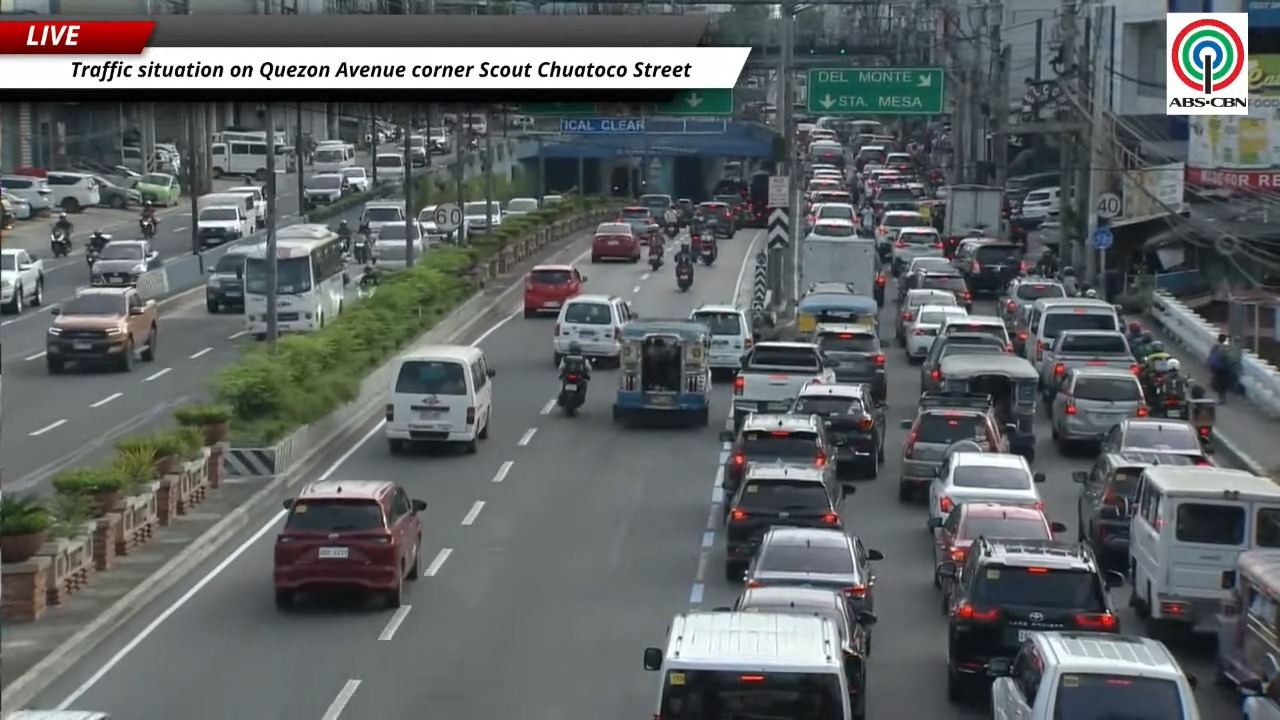bus: (276, 225, 346, 332), (210, 141, 266, 181), (210, 129, 266, 143)
car: (938, 538, 1123, 701), (273, 480, 426, 609), (986, 630, 1201, 719), (731, 586, 877, 717), (725, 463, 853, 582), (930, 502, 1066, 611), (1072, 451, 1193, 568), (745, 524, 882, 614), (900, 393, 1005, 501), (722, 413, 836, 512), (45, 288, 157, 374), (791, 383, 886, 478), (927, 451, 1045, 522), (1048, 367, 1147, 450), (553, 294, 636, 366), (813, 323, 886, 401), (1100, 417, 1213, 465), (920, 333, 1006, 391), (690, 304, 756, 376), (895, 289, 957, 347), (904, 305, 967, 362), (960, 241, 1027, 294), (523, 264, 585, 317), (999, 276, 1065, 325), (90, 240, 160, 285), (0, 248, 44, 313), (939, 315, 1012, 352), (206, 247, 247, 312), (890, 226, 943, 276), (898, 257, 951, 302), (915, 269, 971, 311), (0, 174, 54, 214), (302, 172, 353, 211), (591, 222, 640, 262), (356, 201, 404, 236), (615, 206, 659, 244), (951, 235, 997, 271), (133, 172, 180, 206), (94, 175, 140, 209), (697, 201, 735, 238), (806, 203, 857, 230), (712, 194, 747, 231), (462, 200, 501, 232), (636, 194, 673, 224), (805, 219, 856, 240), (373, 152, 405, 183), (0, 192, 34, 219), (802, 281, 856, 296), (340, 167, 370, 192), (811, 189, 852, 205), (884, 152, 915, 172), (504, 198, 538, 216)
motorcycle: (1152, 376, 1185, 418), (557, 372, 587, 416), (86, 235, 109, 268), (352, 233, 372, 264), (50, 230, 71, 258), (676, 263, 693, 291), (699, 238, 716, 266), (85, 245, 100, 269), (139, 218, 155, 239), (649, 248, 663, 270), (338, 231, 351, 253)
truck: (732, 341, 837, 434), (1039, 330, 1137, 398), (800, 236, 883, 303), (942, 184, 1004, 254)
